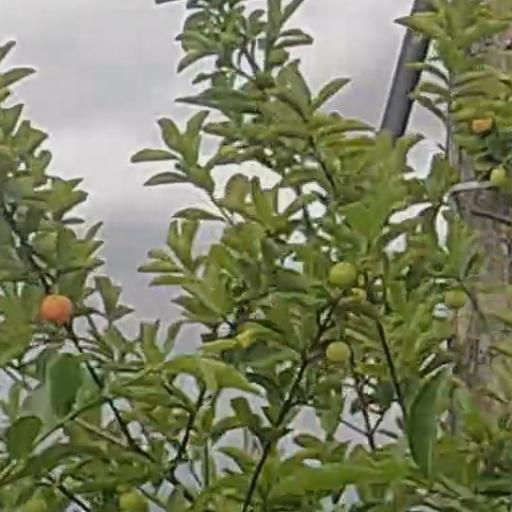acerola: (44, 295, 71, 322), (329, 262, 354, 284), (119, 492, 146, 512)
